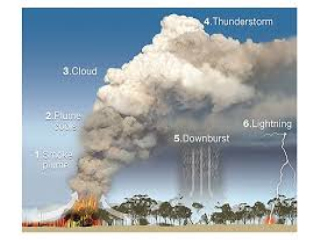fire: (75, 199, 105, 215)
smoke: (52, 15, 294, 195)
